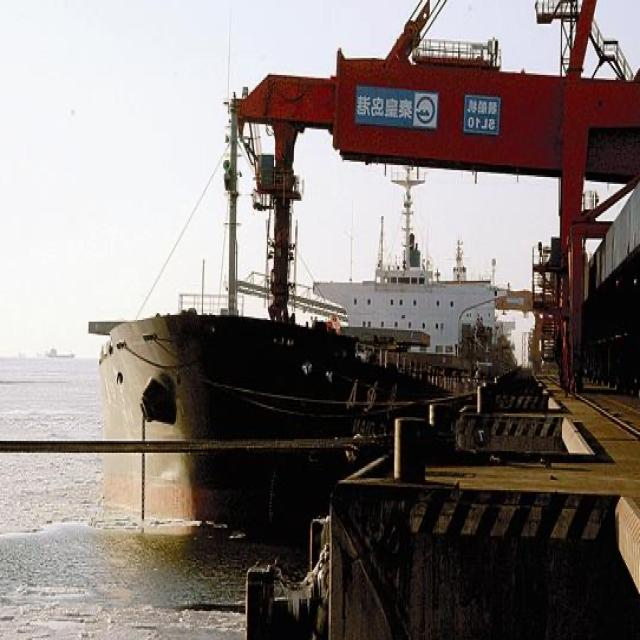cargoship: (114, 218, 474, 539)
